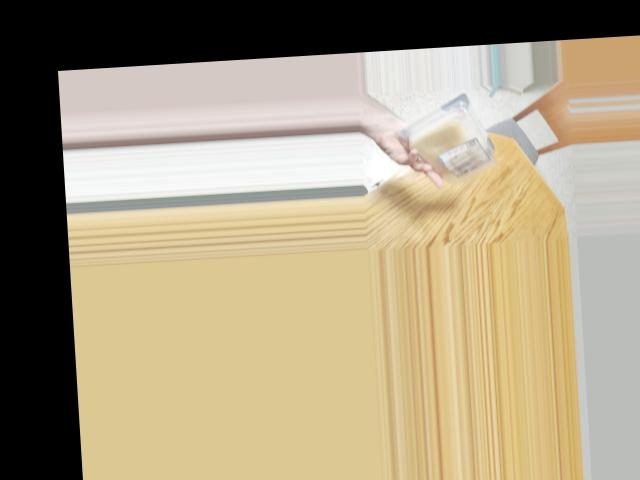cheese: (402, 102, 503, 184)
